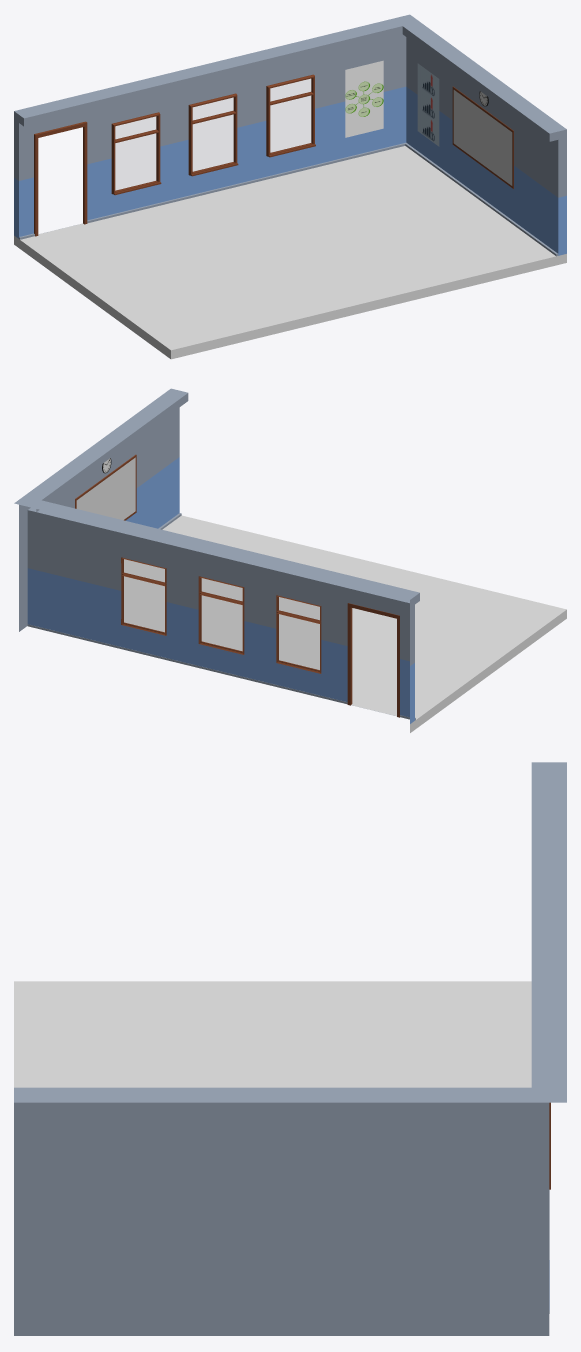
The model's file is Room_Aula6.fbx.
3 views of the same model, one above another, from view 1: azimuth 30°, elevation 25°; view 2: azimuth 150°, elevation 25°; view 3: azimuth 270°, elevation 25° (orthographic). The views are drawn at different scales.
Visible parts, largest first — view 1: Aula6_Base; view 2: Aula6_Base; view 3: Aula6_Base.
Boxes of the visible parts, bbox=[...] form: Aula6_Base: bbox=[14, 14, 566, 359]; Aula6_Base: bbox=[14, 388, 566, 732]; Aula6_Base: bbox=[14, 762, 566, 1335].
Bounding box in the file's own units: 4545 × 1464 × 3121.
9 materials, 3 textured.
